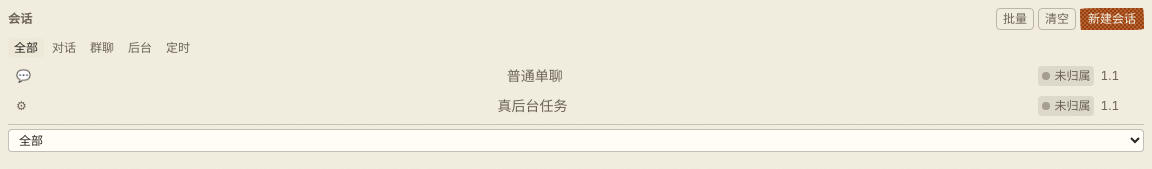
Test: ConversationsList — steward session isolation (spec 5.2) › the 'background' filter view keeps genuine background sessions and never shows the steward session
The width and height of the screenshot is (1152, 169).
expect the text "普通单聊" is shown: met, box [507, 67, 563, 84]
Step 1. Click the tab "后台" → coordinates (140, 48), box [122, 38, 158, 58]
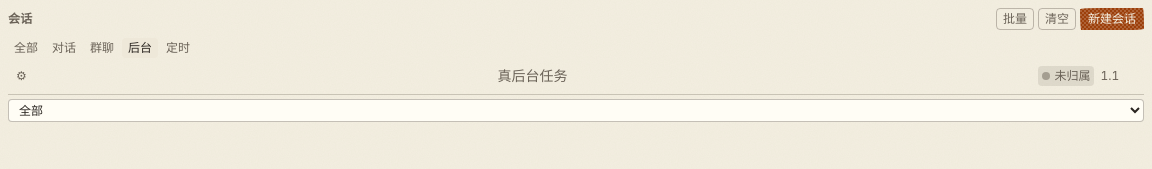
expect the text "真后台任务" is shown: met, box [498, 67, 568, 84]
expect the button "普通单聊" is gone: met
